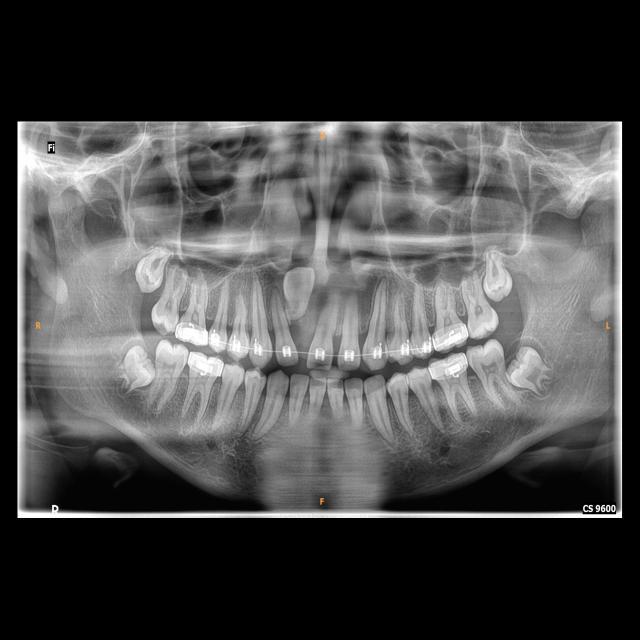kaplama: (188, 349, 224, 380), (432, 323, 468, 350), (173, 321, 210, 346), (428, 355, 468, 378)
